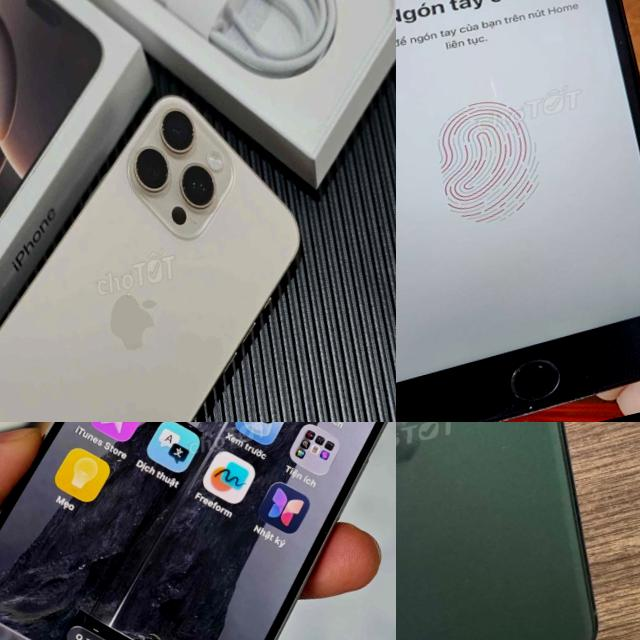gen_11: (396, 422, 639, 640)
gen_15: (0, 422, 396, 640)
gen_16: (0, 76, 367, 422)
gen_7_8: (396, 0, 640, 422)
scratch: (445, 371, 640, 422), (522, 345, 596, 394), (606, 29, 632, 54)
